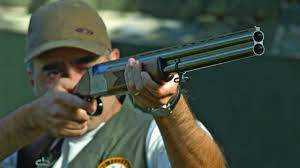weapon: (73, 28, 267, 110)
